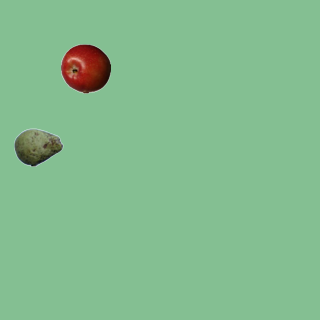Apple Braeburn: (60, 43, 110, 93)
Pear Stone: (13, 122, 63, 172)
